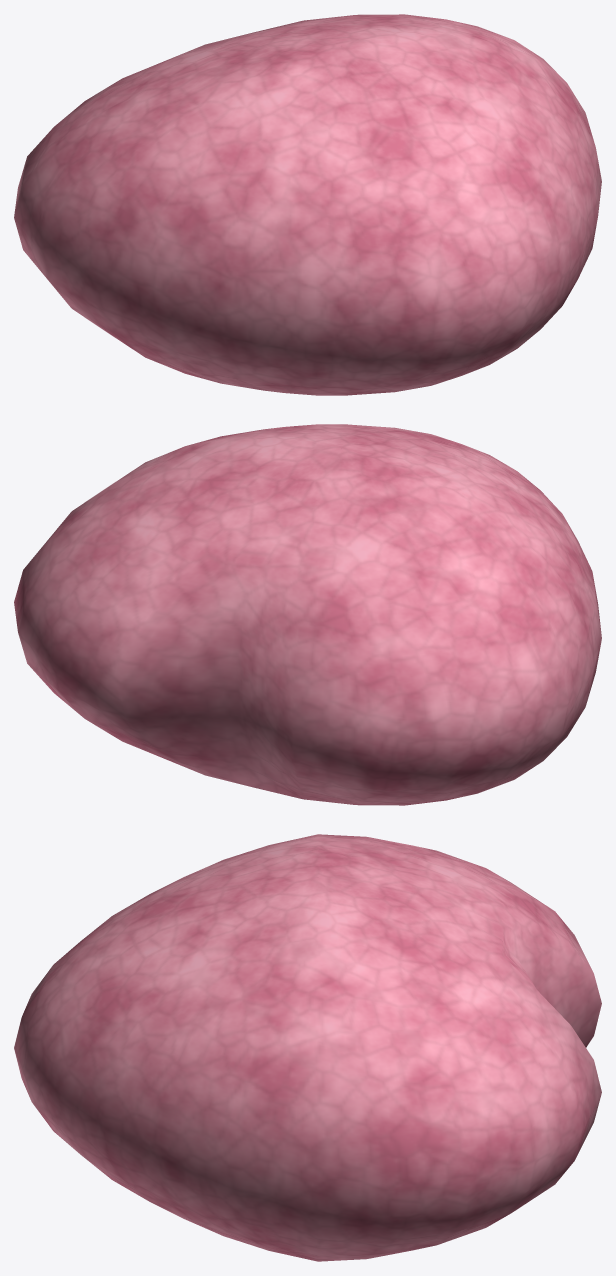
File: TongueTip.obj
3 views of the same model, one above another, from view 1: azimuth 30°, elevation 25°; view 2: azimuth 150°, elevation 25°; view 3: azimuth 270°, elevation 25° (orthographic). The views are drawn at different scales.
Visible parts, largest first — view 1: TongueTip; view 2: TongueTip; view 3: TongueTip.
Part boxes in pixels (<box>): TongueTip: <box>14,14,601,395</box>; TongueTip: <box>14,424,601,805</box>; TongueTip: <box>14,834,601,1261</box>.
Size of the model in its own units: 1.05 by 0.62 by 0.967.
1 material, 1 textured.
